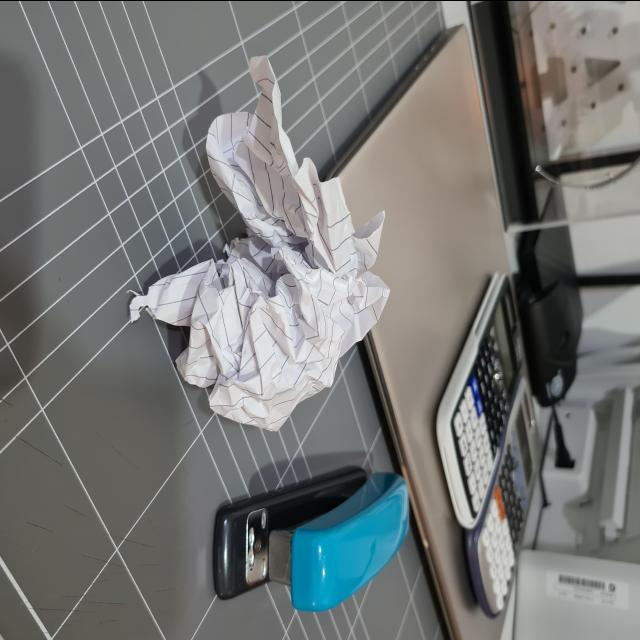kertas: (130, 98, 399, 423)
